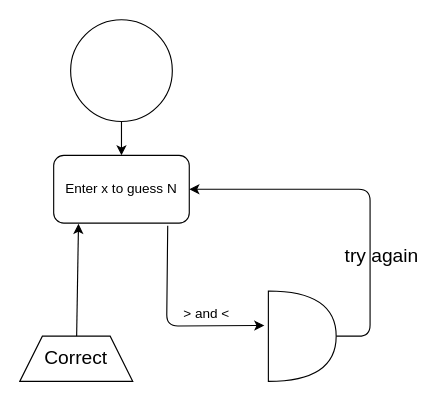
This 446x401 diagram has some shape labels left out. The centre of each missing label's shape, as x and y in pixels:
"Start" belongs at [120,70].
"Wrong" belongs at [301,335].
